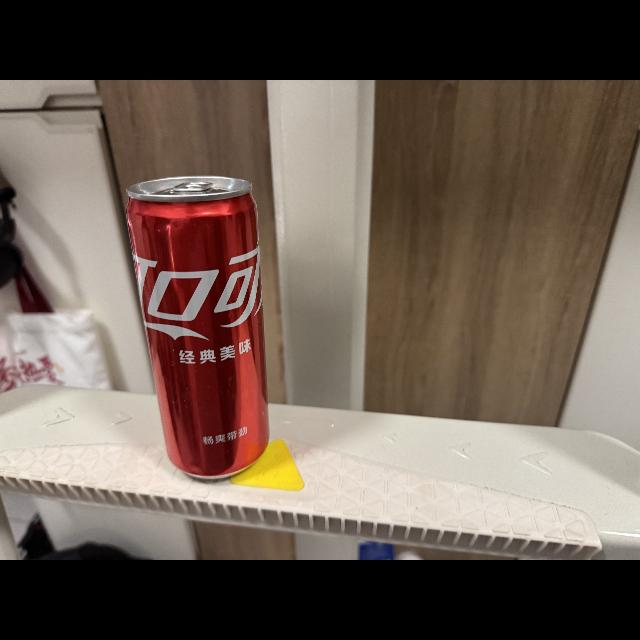Cola: (120, 171, 278, 485)
